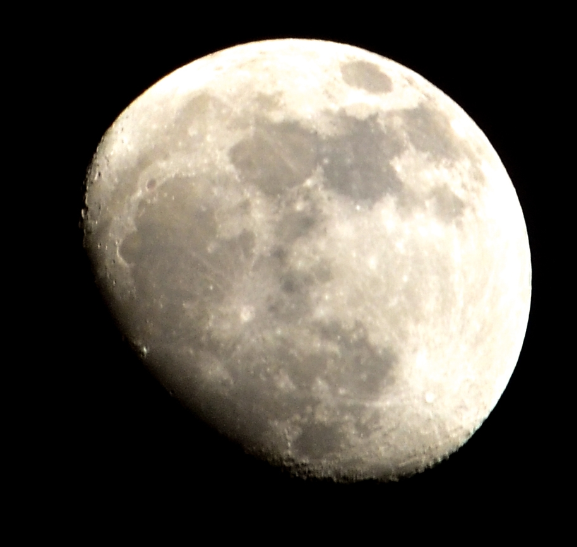crater: (325, 55, 397, 103), (219, 291, 269, 338), (407, 376, 453, 418), (134, 166, 177, 202), (344, 195, 372, 218), (91, 166, 114, 192), (287, 193, 310, 218), (333, 380, 353, 398), (321, 151, 336, 171), (334, 330, 344, 345)
